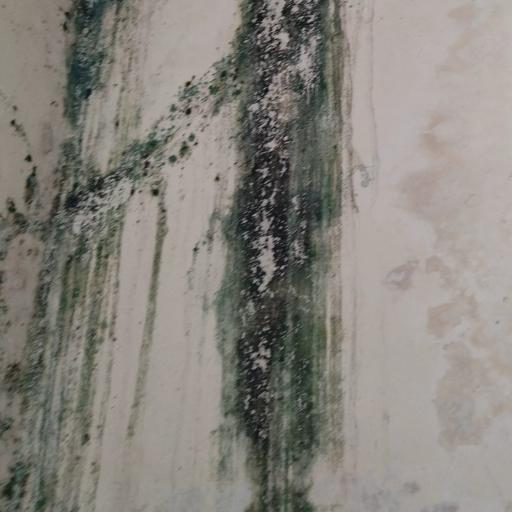algae: (0, 0, 425, 511)
